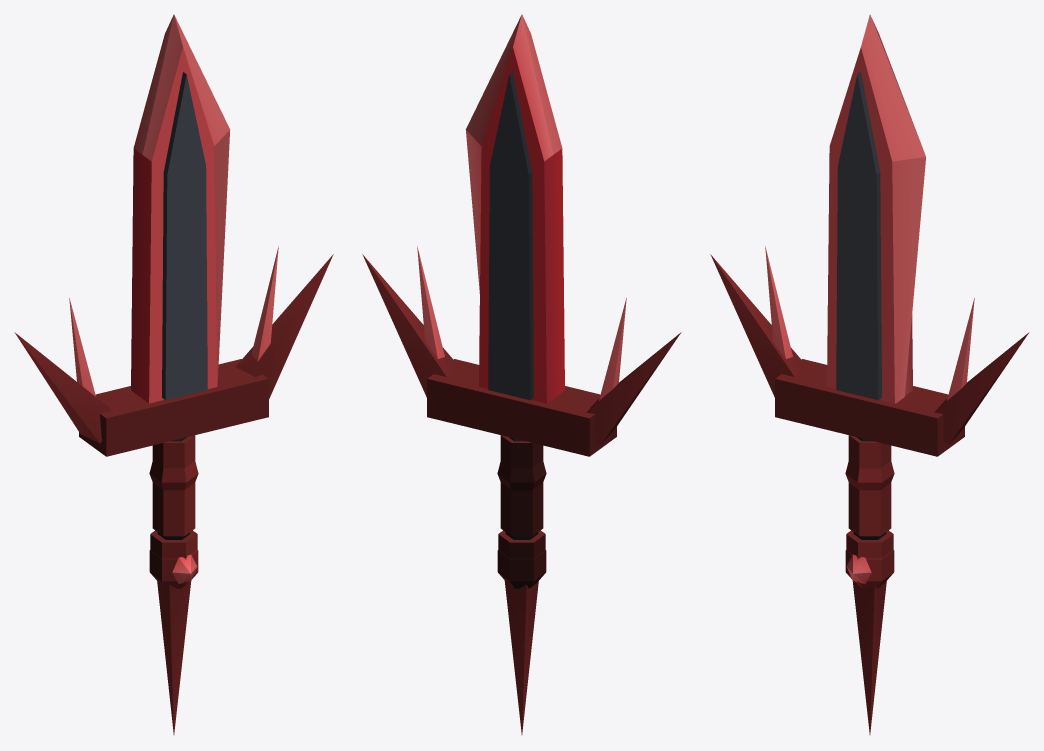
File: rogue_off_3.gltf
3 renders of one model, left to right at view 1: azimuth 30°, elevation 25°; view 2: azimuth 150°, elevation 25°; view 3: azimuth 330°, elevation 25°, orthographic.
Visible parts, largest first — view 1: rogue_off_3; view 2: rogue_off_3; view 3: rogue_off_3.
Part boxes in pixels (<box>): rogue_off_3: <box>14,14,333,734</box>; rogue_off_3: <box>362,14,681,734</box>; rogue_off_3: <box>710,14,1029,734</box>.
Bounding box in the file's own units: 0.61 × 1.32 × 0.101.
Materials: 1 (1 with a texture image).
